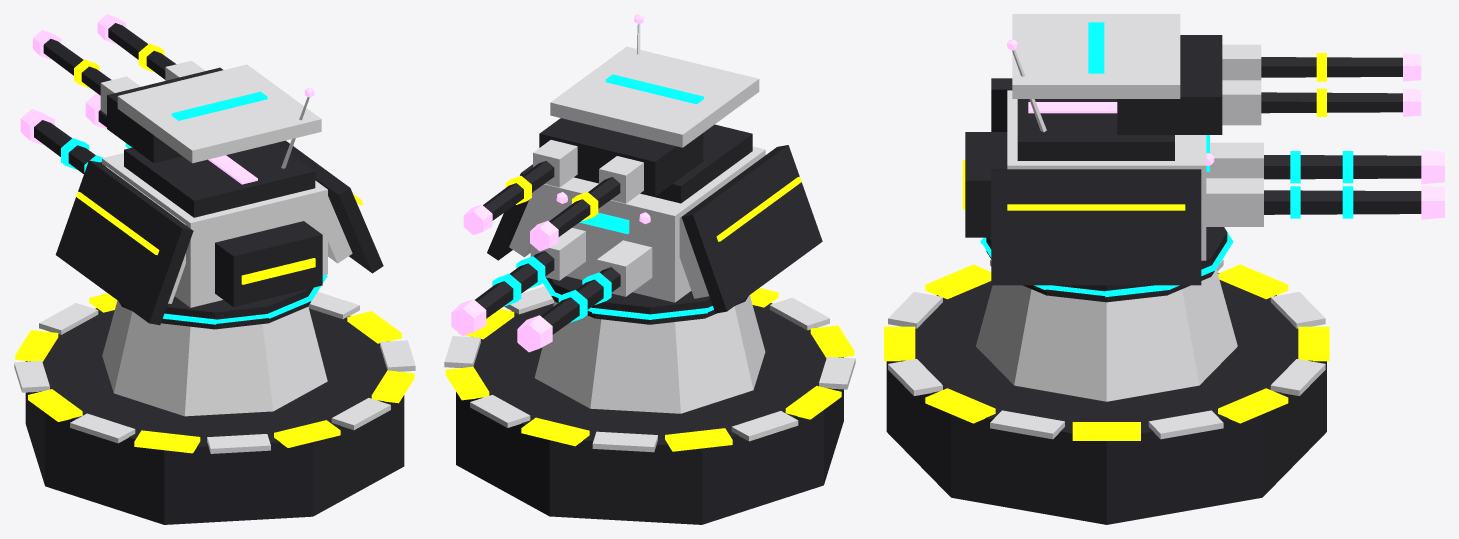
The model's file is NeonTurret.fbx.
3 renders of one model, left to right at view 1: azimuth 30°, elevation 25°; view 2: azimuth 150°, elevation 25°; view 3: azimuth 270°, elevation 25°, orthographic. The views are drawn at different scales.
Parts seen in each view (by area): view 1: Turret_Base, Turret_Pedestal, TurMk2_SideArmor-1, TurMk2_TopPlate, Turret_Body, Turret_TopArmor, Turret_AmmoBox, TurMk2_SideArmor1, Turret_Bearing, TurMk2_UpperMount, Turret_Barrel-1, TurMk2_Barrel-1 (+23 smaller); view 2: Turret_Base, Turret_Pedestal, TurMk2_SideArmor-1, TurMk2_TopPlate, Turret_Body, TurMk2_UpperMount, Turret_TopArmor, Turret_Bearing, Turret_Shroud-1, Turret_Barrel-1, Turret_Barrel1, Turret_Shroud1 (+28 smaller); view 3: Turret_Base, TurMk2_SideArmor1, Turret_Pedestal, TurMk2_TopPlate, Turret_TopArmor, TurMk2_UpperMount, Turret_Body, Turret_AmmoBox, Turret_Barrel1, Turret_Barrel-1, Turret_Shroud1, TurMk2_Barrel-1 (+25 smaller).
Boxes of the visible parts, <box> form: Turret_Base: <box>25,308,404,524</box>; Turret_Pedestal: <box>102,300,327,416</box>; TurMk2_SideArmor-1: <box>55,160,193,325</box>; TurMk2_TopPlate: <box>117,64,321,163</box>; Turret_Body: <box>102,153,327,307</box>; Turret_TopArmor: <box>124,143,315,217</box>; Turret_AmmoBox: <box>215,221,322,306</box>; TurMk2_SideArmor1: <box>277,140,383,273</box>; Turret_Bearing: <box>118,287,313,329</box>; TurMk2_UpperMount: <box>107,67,222,162</box>; Turret_Barrel-1: <box>34,120,101,173</box>; TurMk2_Barrel-1: <box>43,39,111,95</box>; Turret_Base: <box>456,303,843,524</box>; Turret_Pedestal: <box>534,295,765,413</box>; TurMk2_SideArmor-1: <box>681,145,822,313</box>; TurMk2_TopPlate: <box>550,46,759,147</box>; Turret_Body: <box>534,146,765,302</box>; TurMk2_UpperMount: <box>539,118,703,196</box>; Turret_TopArmor: <box>574,124,752,203</box>; Turret_Bearing: <box>546,276,748,324</box>; Turret_Shroud-1: <box>597,240,652,296</box>; Turret_Barrel-1: <box>541,267,620,334</box>; Turret_Barrel1: <box>475,251,554,318</box>; Turret_Shroud1: <box>530,228,585,280</box>; Turret_Base: <box>886,273,1326,524</box>; TurMk2_SideArmor1: <box>991,169,1201,285</box>; Turret_Pedestal: <box>976,269,1237,401</box>; TurMk2_TopPlate: <box>1012,14,1180,98</box>; Turret_TopArmor: <box>1017,99,1174,160</box>; TurMk2_UpperMount: <box>1117,35,1222,134</box>; Turret_Body: <box>1007,90,1206,260</box>; Turret_AmmoBox: <box>965,132,1007,237</box>; Turret_Barrel1: <box>1264,190,1421,214</box>; Turret_Barrel-1: <box>1264,155,1421,179</box>; Turret_Shroud1: <box>1206,178,1263,226</box>; TurMk2_Barrel-1: <box>1261,57,1402,77</box>.
Size of the model in its own units: 0.85 by 0.887 by 1.07.
